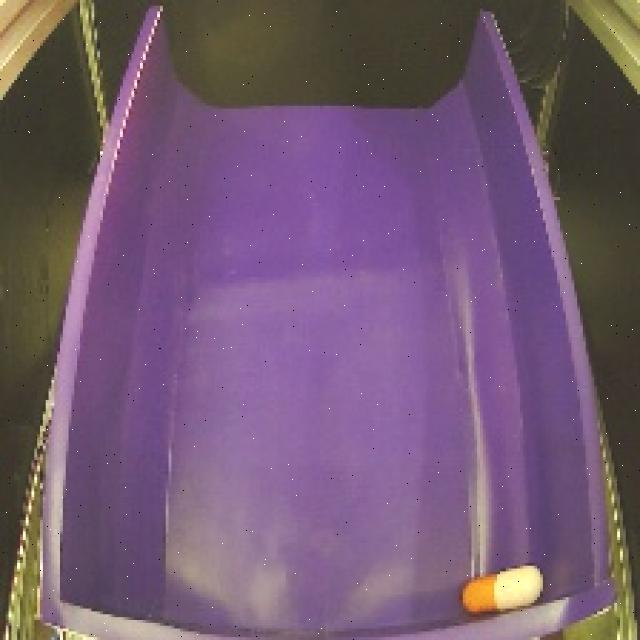small: (458, 558, 548, 625)
